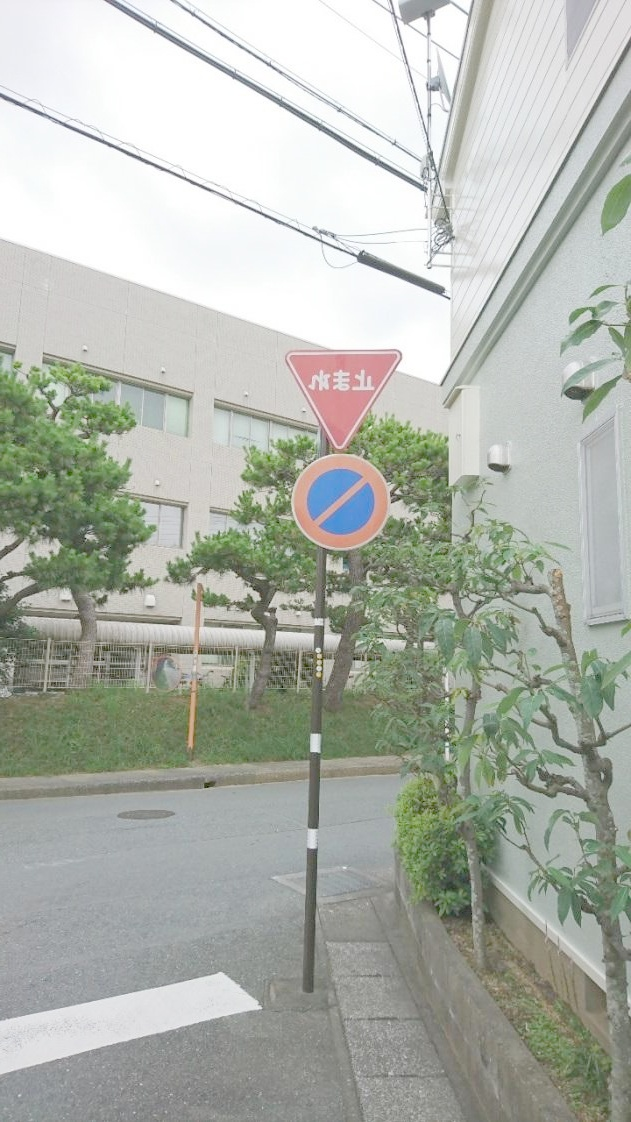Prohibition_sign: (279, 452, 399, 565)
Regulatory_sign_triangle: (274, 337, 411, 460)
